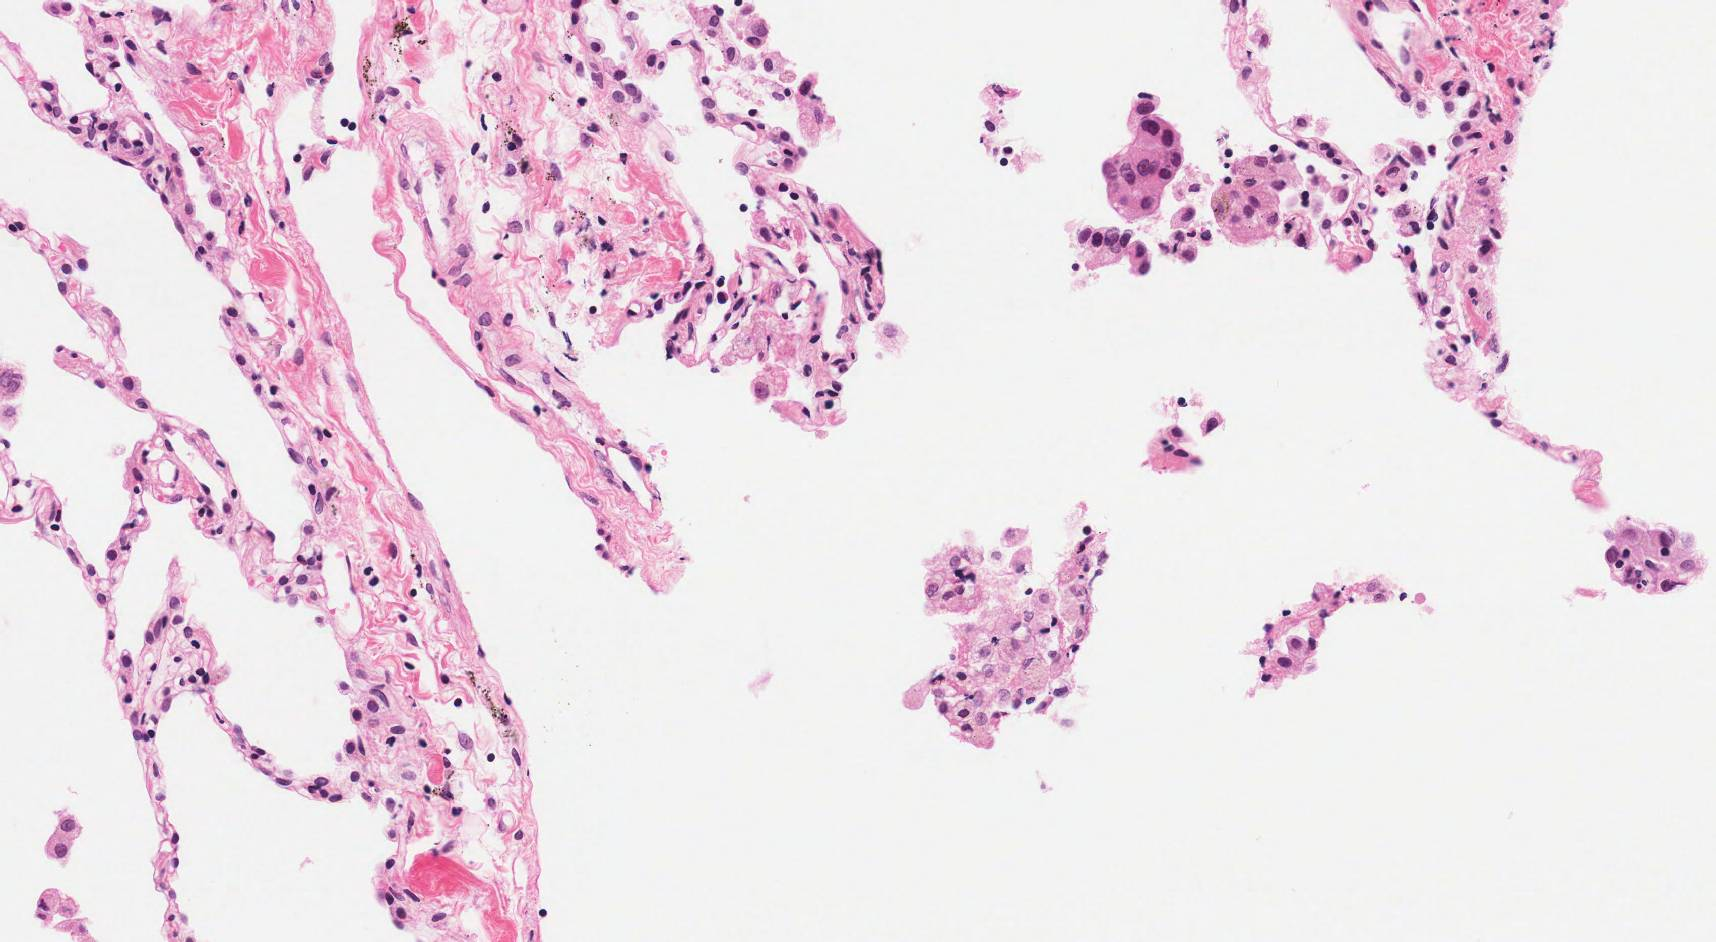stas: (1100, 90, 1185, 221), (1069, 227, 1149, 277)
